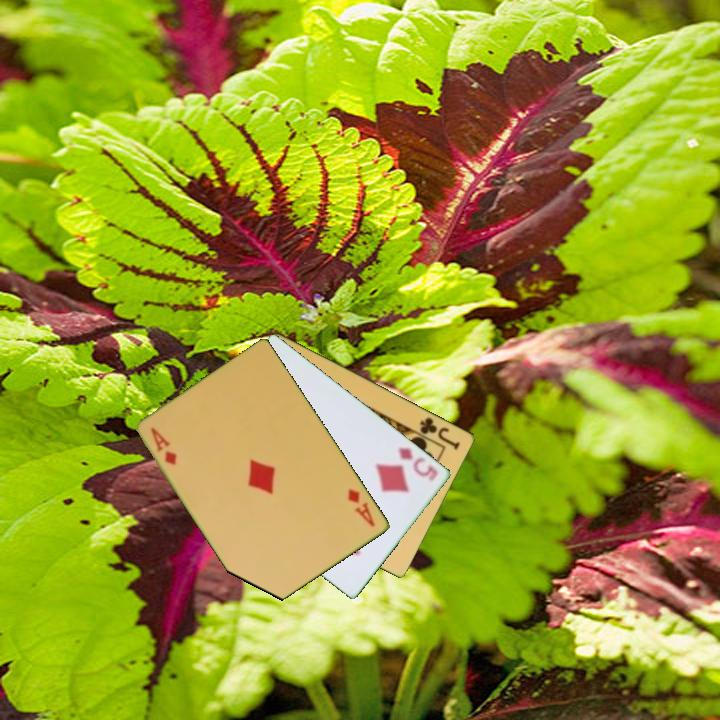5d: (395, 443, 441, 485)
Ad: (344, 485, 378, 530), (147, 424, 180, 468)
Jc: (417, 413, 463, 453)
